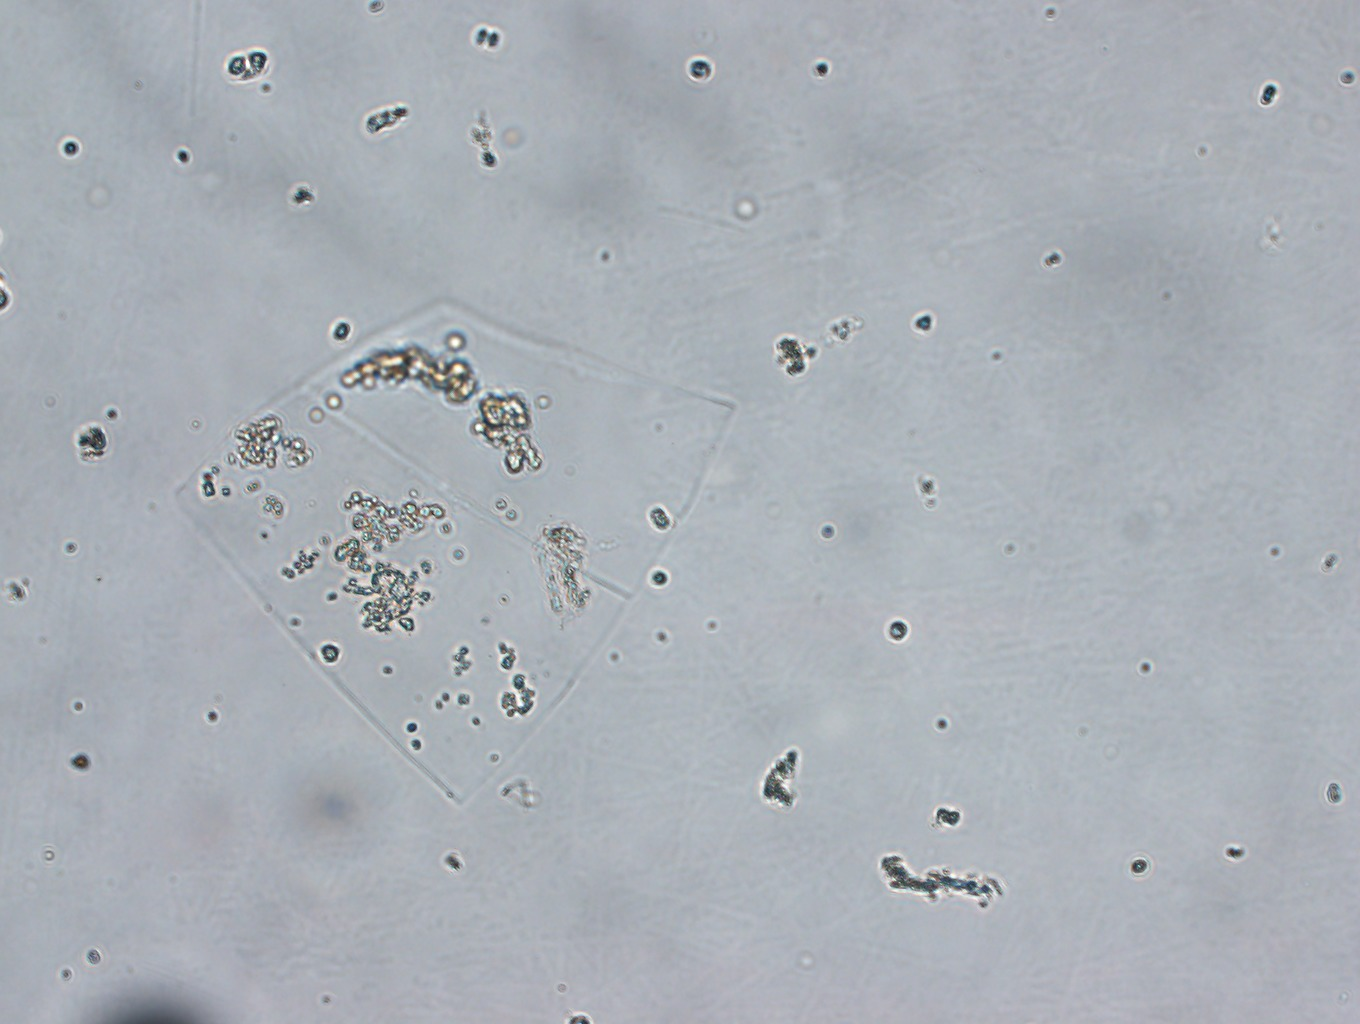helicotheca: (170, 300, 736, 817)
